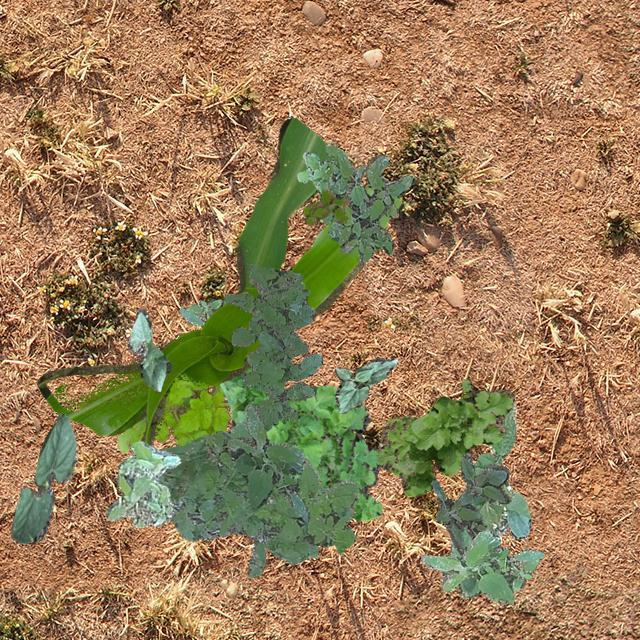crop: (36, 116, 402, 444), (450, 402, 530, 558), (8, 412, 76, 542), (126, 308, 170, 392), (334, 357, 396, 412)
weed: (156, 420, 356, 578), (218, 366, 382, 520), (224, 262, 322, 430), (376, 378, 514, 496), (296, 142, 414, 262), (204, 402, 310, 520), (115, 372, 228, 452), (420, 528, 542, 602), (430, 452, 510, 554), (106, 439, 180, 526), (302, 188, 348, 224), (178, 298, 228, 326)
